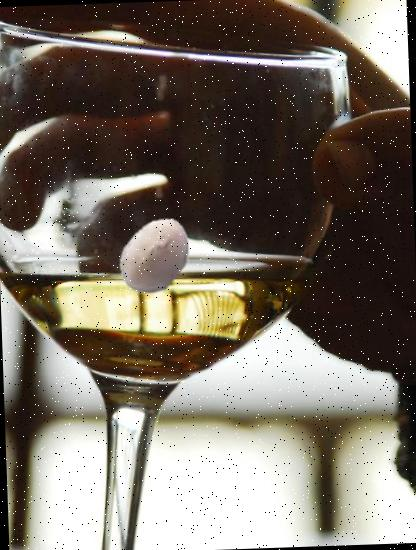Hazelnut: (112, 210, 202, 300)
